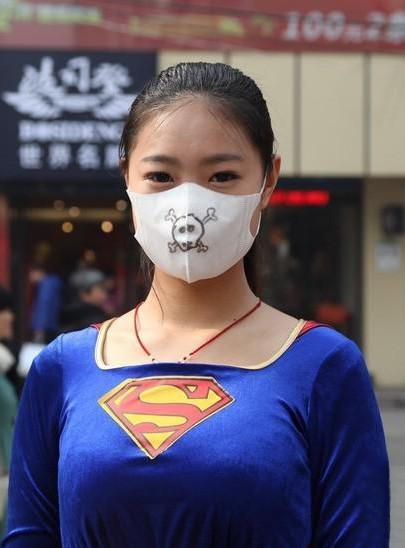OK: (134, 138, 266, 270)
